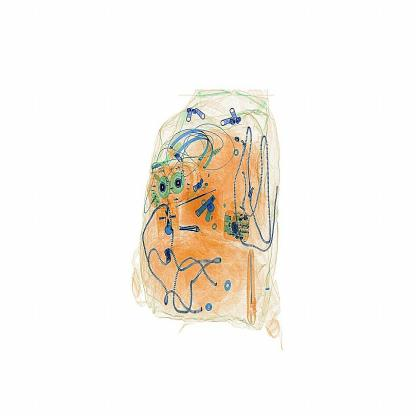wrench: (245, 245, 258, 334)
